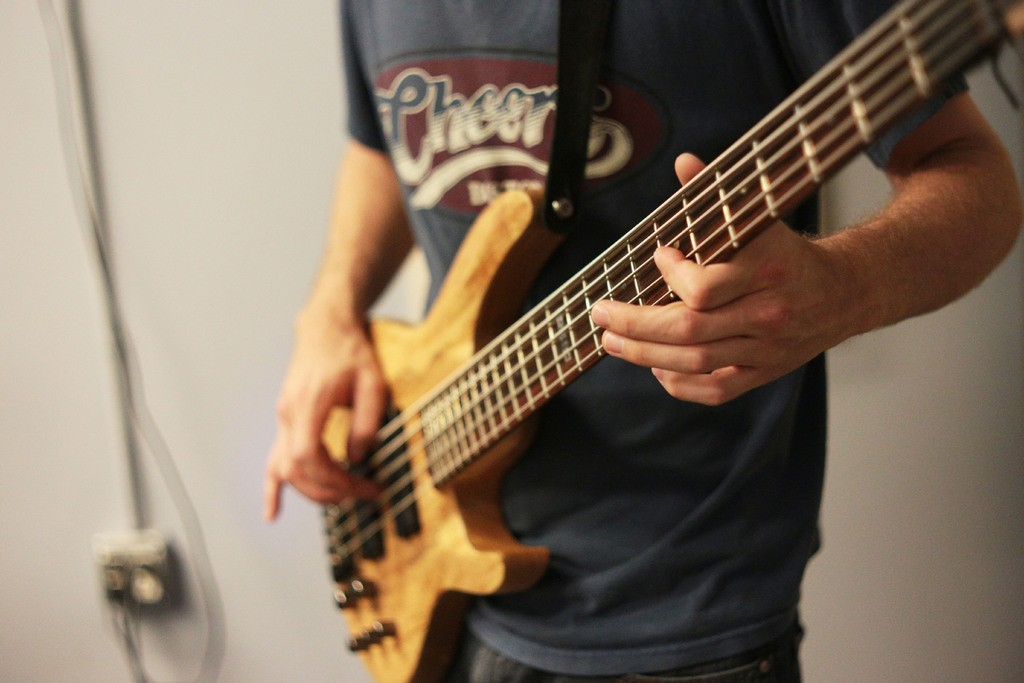guitar: (320, 0, 1024, 683)
